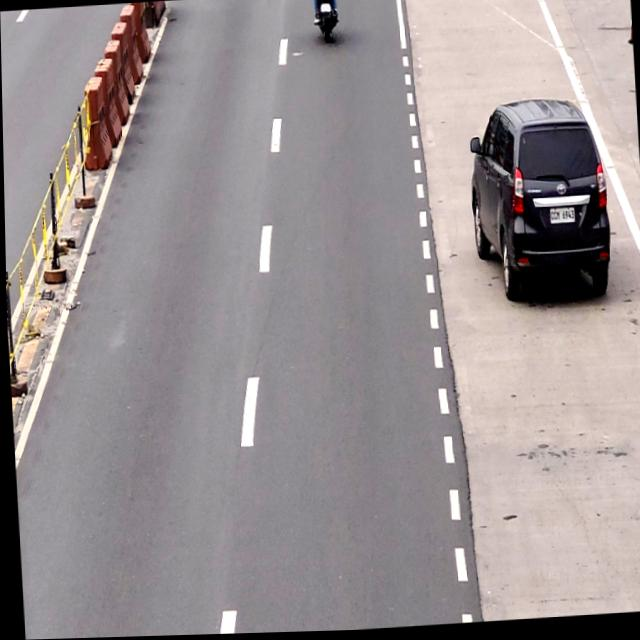Car: (465, 100, 601, 294)
License-Plate: (548, 207, 576, 231)
